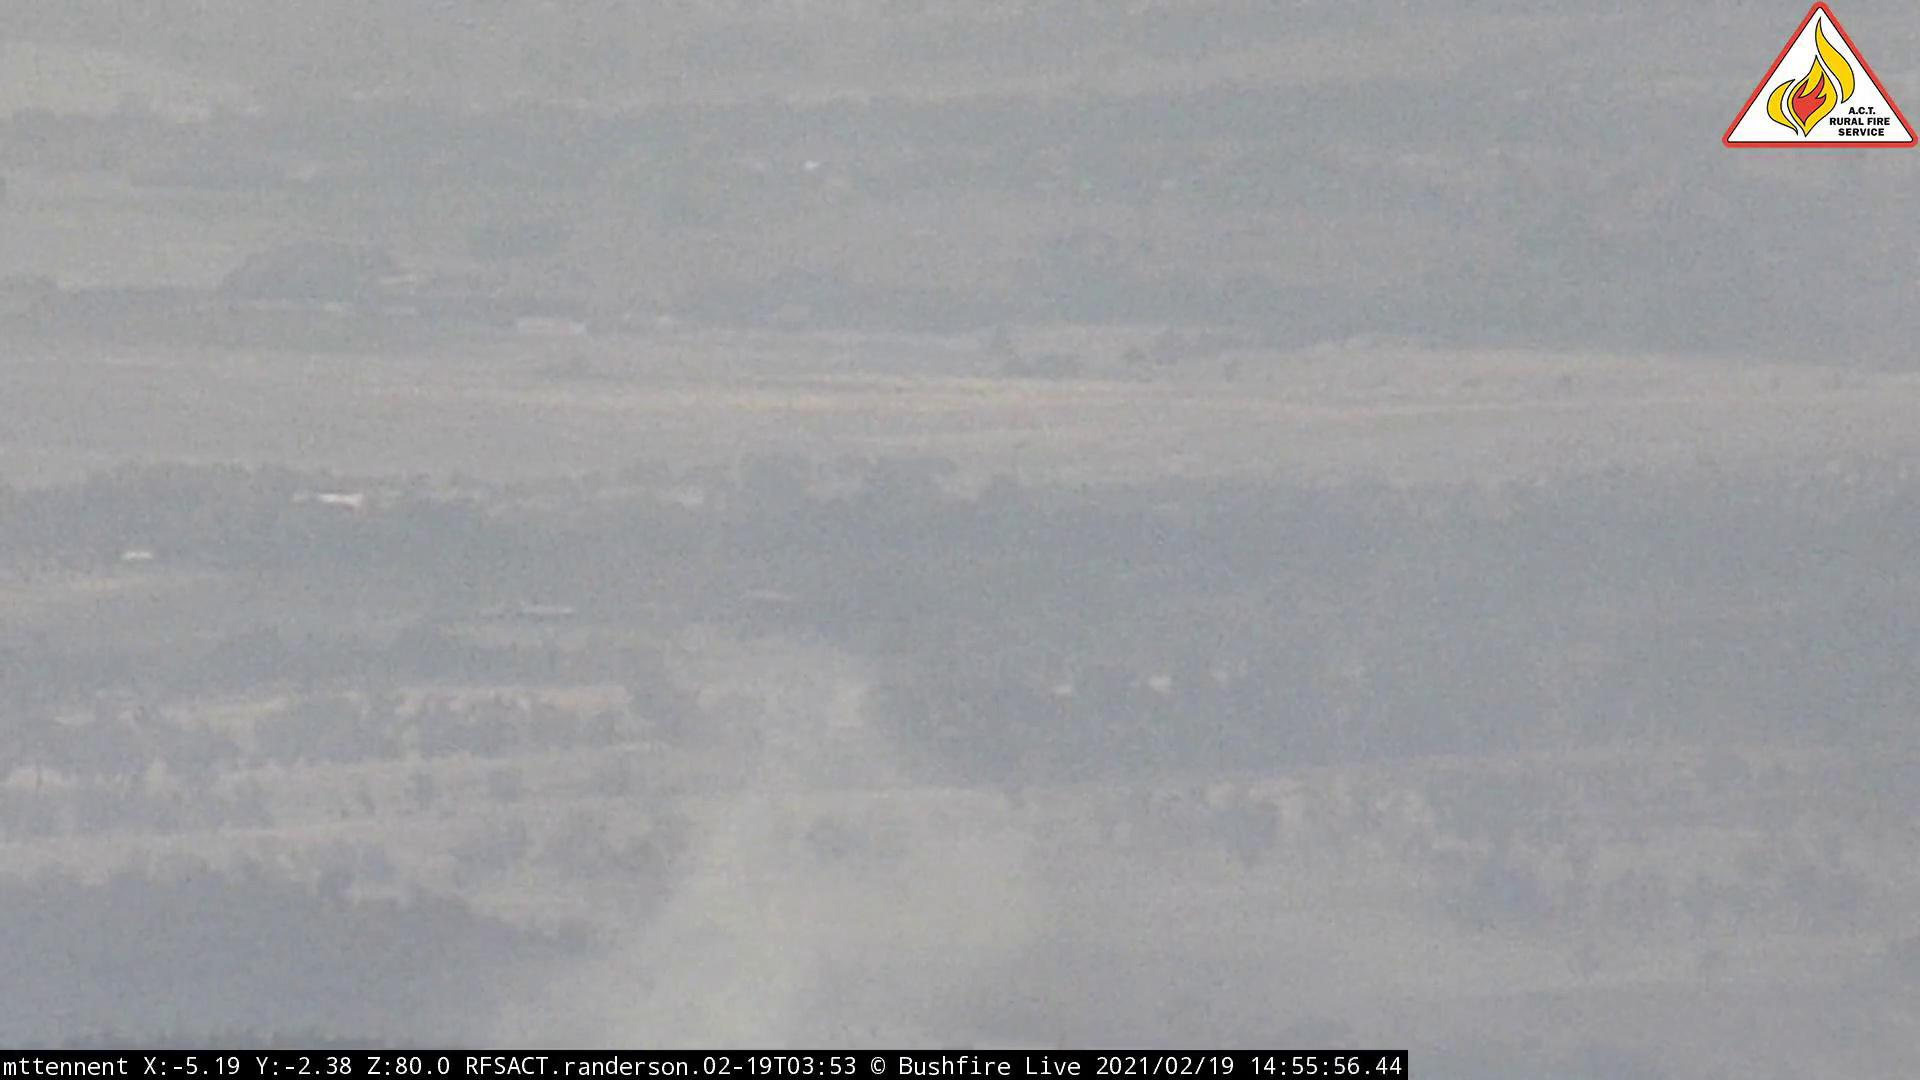Smoke: (618, 609, 1095, 1043)
